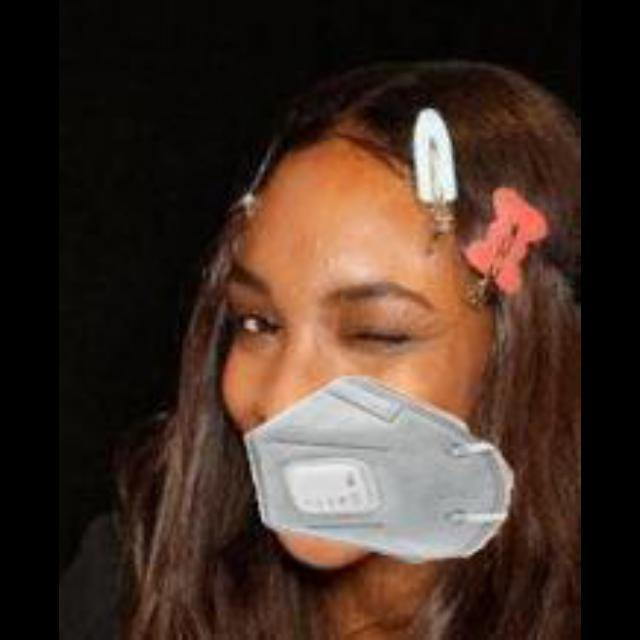suspicion: (216, 106, 524, 568)
